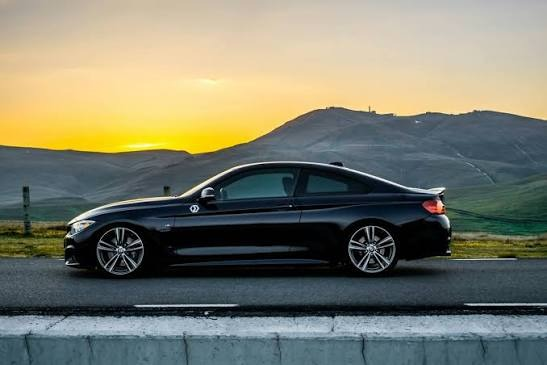car: (67, 162, 457, 274)
